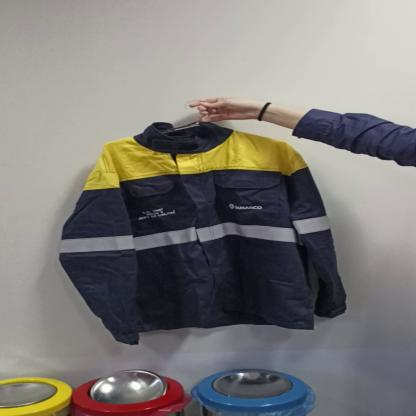C_eletrica: (57, 127, 355, 341)
